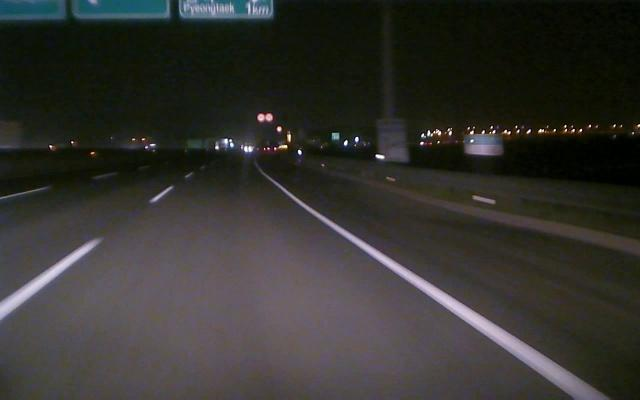lane: (273, 181, 612, 398), (2, 184, 176, 319), (0, 171, 119, 201)
